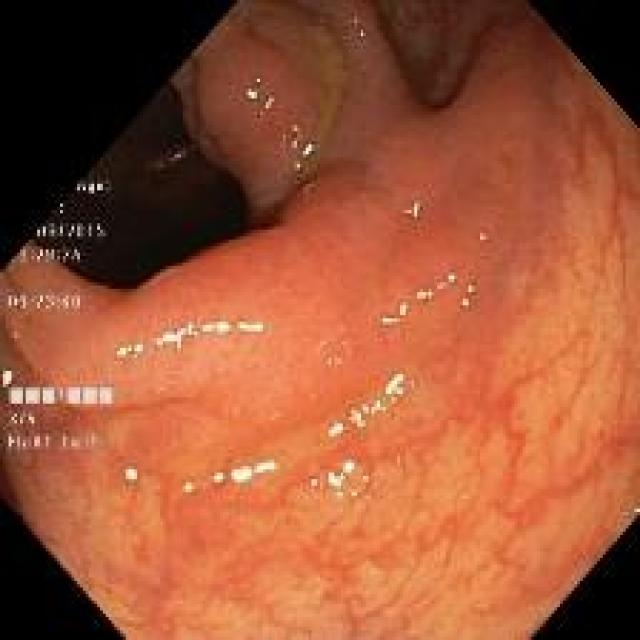Polyps: (172, 4, 345, 226)
